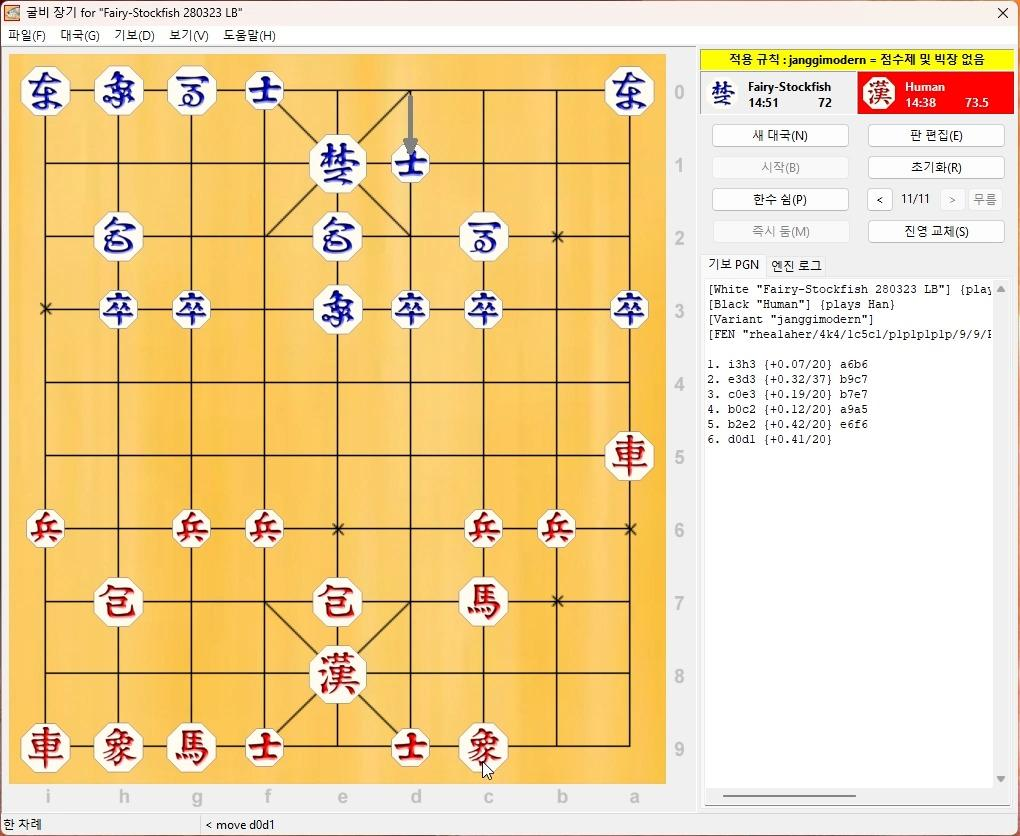cha_green: (603, 68, 652, 115), (21, 70, 70, 114)
cha_red: (604, 433, 655, 479), (20, 724, 69, 770)
jol_green: (170, 292, 210, 328), (466, 293, 505, 329), (98, 293, 136, 328), (391, 294, 430, 328), (610, 291, 649, 325)
jol_red: (463, 509, 505, 545), (24, 512, 65, 547), (537, 512, 578, 547), (243, 512, 283, 547), (174, 510, 211, 546)
ma_green: (459, 212, 511, 260), (169, 69, 218, 112)
ma_red: (166, 722, 217, 772), (461, 578, 509, 624)
po_green: (94, 217, 144, 262), (314, 214, 363, 258)
po_red: (315, 577, 364, 622), (95, 577, 144, 621)
sa_green: (392, 148, 432, 184), (243, 74, 283, 109)
sa_red: (389, 729, 432, 767), (246, 729, 287, 766)
sang_green: (313, 285, 363, 335), (95, 68, 145, 114)
sang_red: (93, 724, 144, 771), (457, 724, 507, 771)
wang_green: (311, 135, 368, 188)
wang_red: (310, 646, 368, 704)
